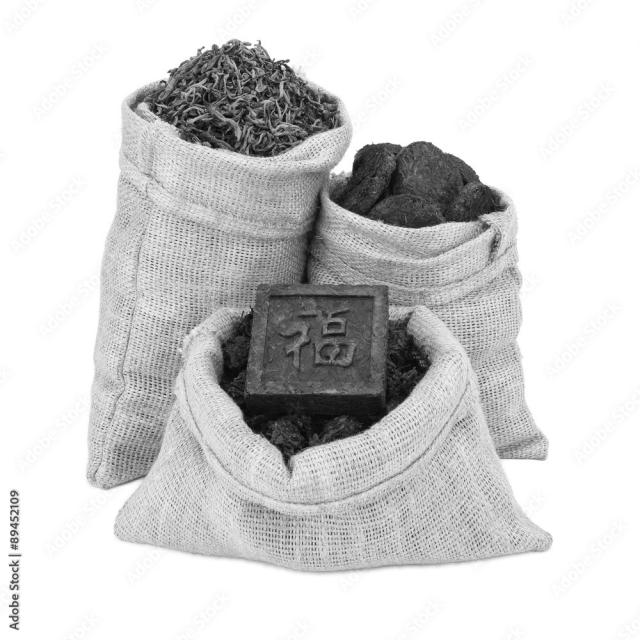sack: (114, 306, 552, 572), (86, 68, 352, 488), (304, 170, 548, 460)
